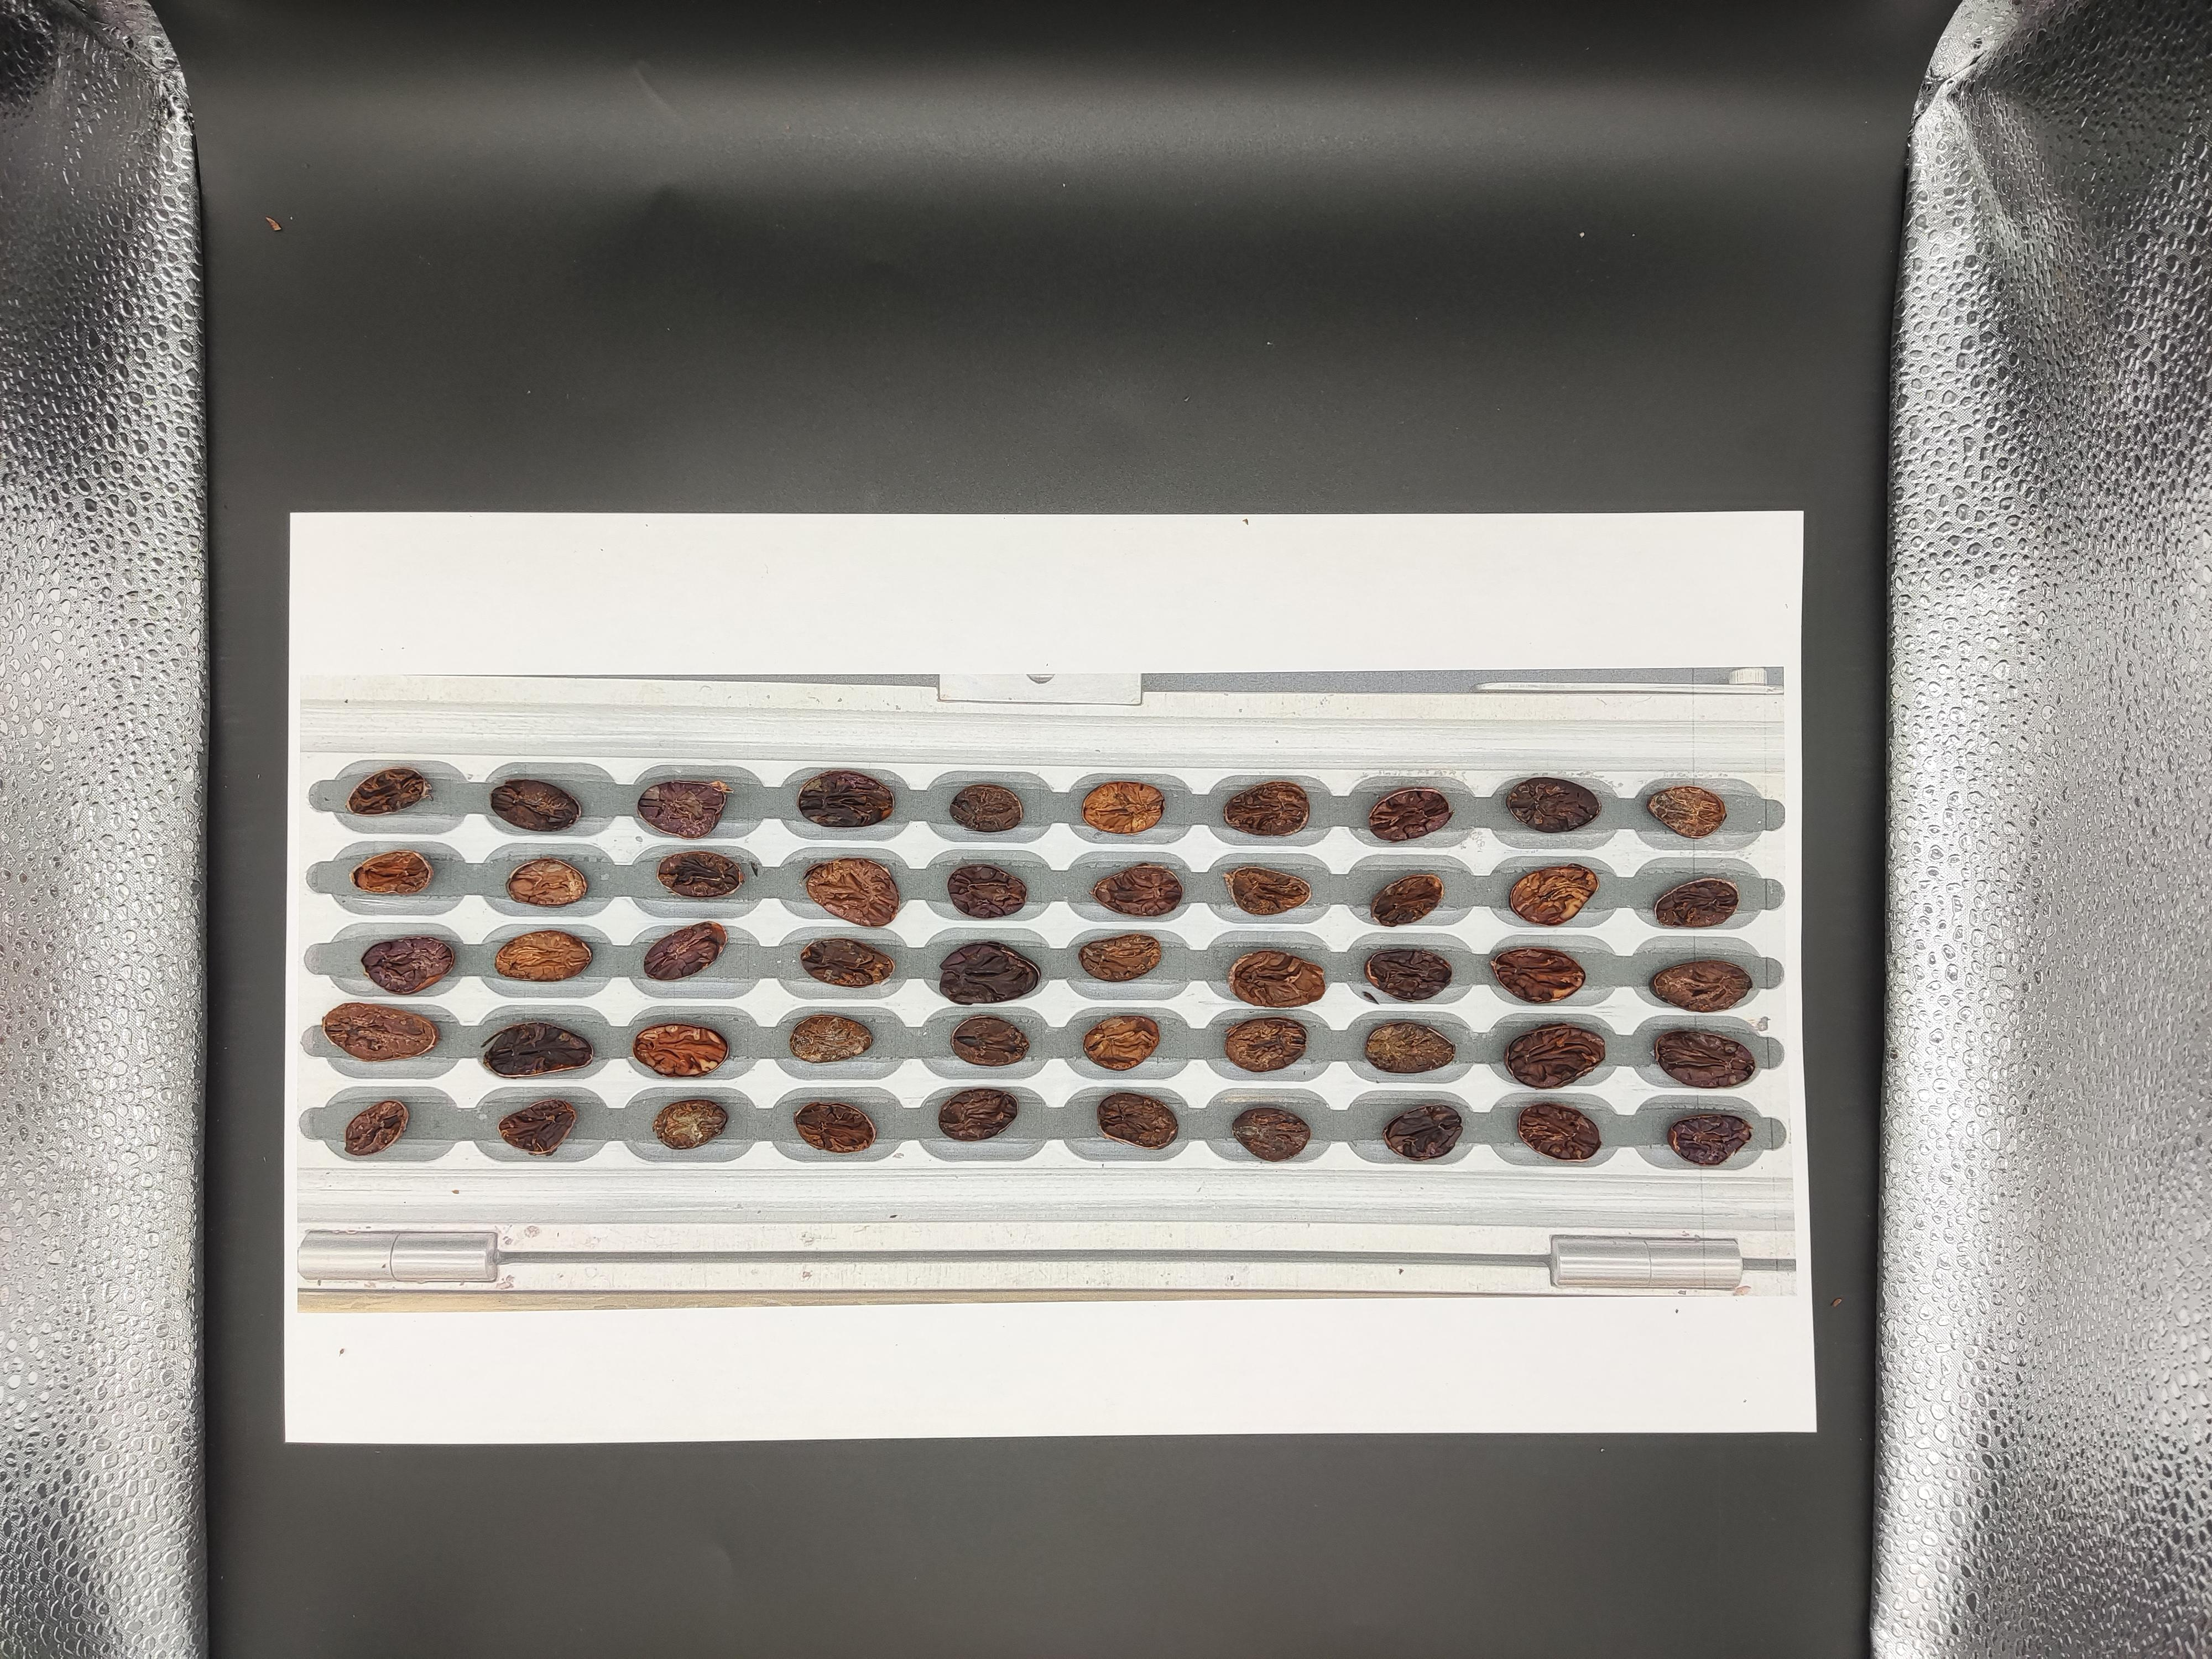Brown - G1: (1848, 523, 1905, 559), (1839, 483, 1893, 518), (1402, 521, 1456, 556)
Brown - G2: (1491, 436, 1543, 479), (1848, 439, 1902, 479), (1707, 484, 1763, 519), (1637, 441, 1691, 474), (1703, 397, 1754, 432), (1630, 516, 1677, 552), (1855, 563, 1904, 598), (1705, 441, 1756, 472), (1484, 559, 1531, 592), (1780, 444, 1824, 477)
Brown - G3: (1923, 490, 1982, 521), (1703, 518, 1754, 552), (1639, 558, 1688, 592), (1562, 518, 1613, 549), (1632, 397, 1679, 430), (1630, 476, 1679, 505), (1364, 474, 1386, 505), (1364, 436, 1385, 469)
Insect-damaged: (1777, 521, 1829, 552)
Mouldy: (1480, 516, 1531, 549), (1923, 399, 1968, 432), (1709, 565, 1754, 598), (1564, 397, 1608, 430), (1413, 559, 1456, 592)
Partly Purple - G1: (1559, 479, 1615, 516), (1778, 401, 1827, 434)
Partly Purple - G2: (1484, 390, 1541, 430), (1921, 525, 1984, 561), (1559, 439, 1609, 474), (1775, 483, 1827, 516), (1413, 432, 1463, 465), (1364, 521, 1388, 558)
Partly Purple - G3: (1406, 467, 1456, 505)
Total Purple - G2: (1932, 566, 1980, 599)
Total Purple - G3: (1402, 396, 1458, 432)
Very Dark Brown - G2: (1785, 561, 1834, 598), (1923, 448, 1975, 479), (1559, 554, 1606, 587), (1364, 559, 1379, 594)
Very Dark Brown - G3: (1844, 396, 1902, 429), (1487, 477, 1541, 509), (1364, 396, 1381, 429)
